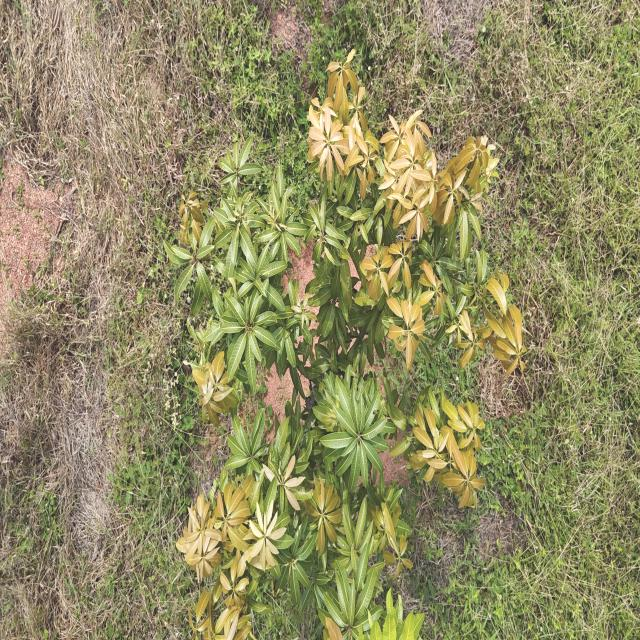mangoTree: (159, 43, 533, 640)
